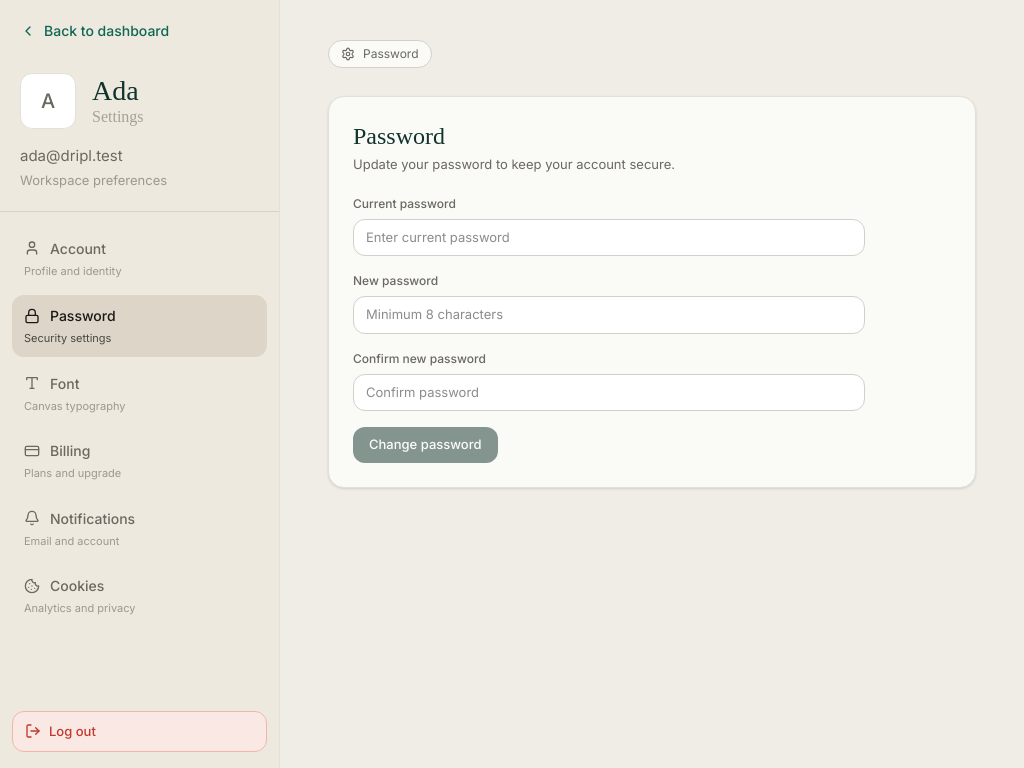
Scenario: /settings — password › clears the fields and reports success once the change is accepted
The image size is (1024, 768).
Type "hunter2" into the password field with placeholder "Enter current password" at (609, 237), box [353, 218, 865, 256]
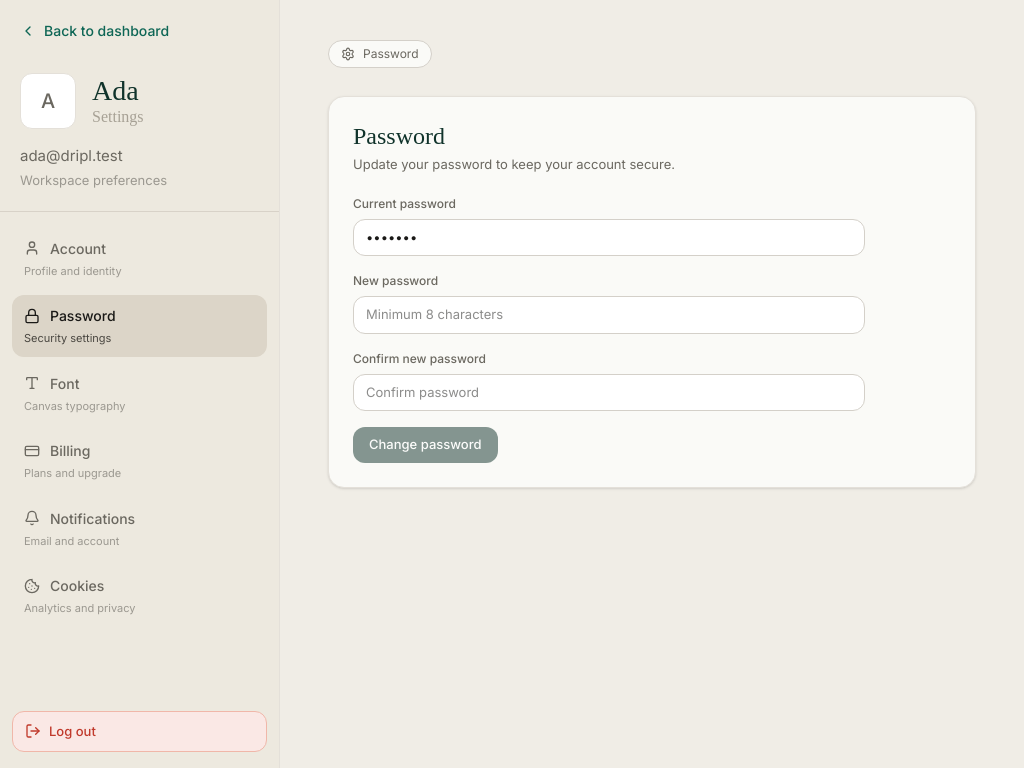
Type "longenough1" into the password field with placeholder "Minimum 8 characters" at (609, 315), box [353, 296, 865, 334]
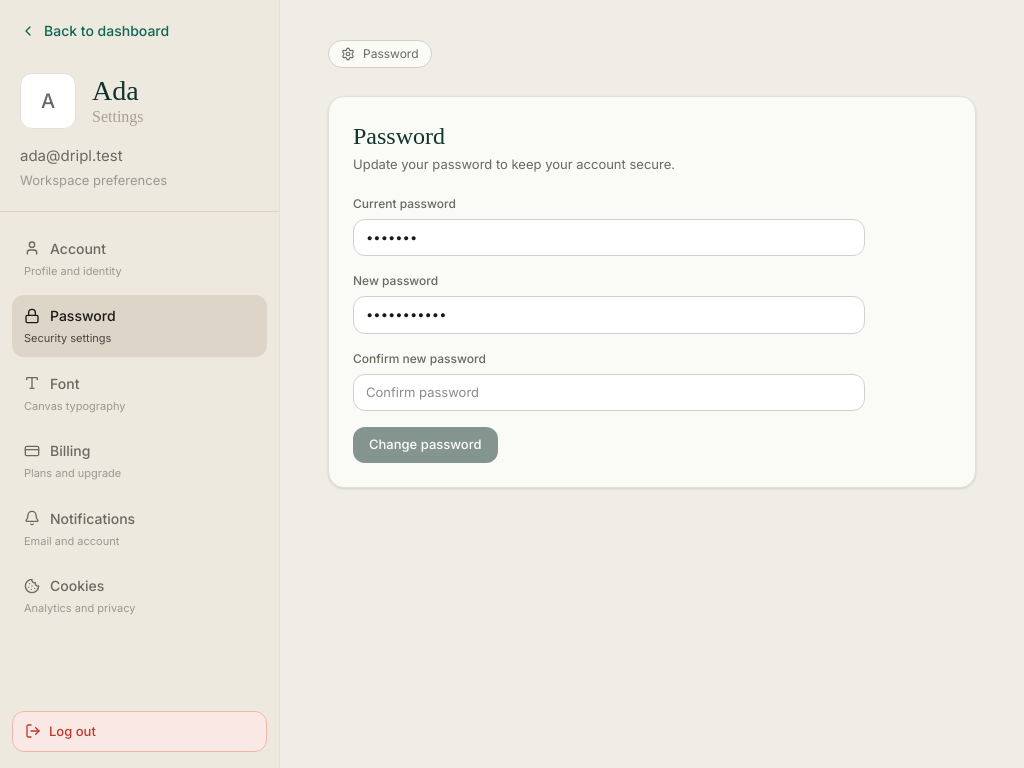
Type "longenough1" into the password field with placeholder "Confirm password" at (609, 392), box [353, 374, 865, 411]
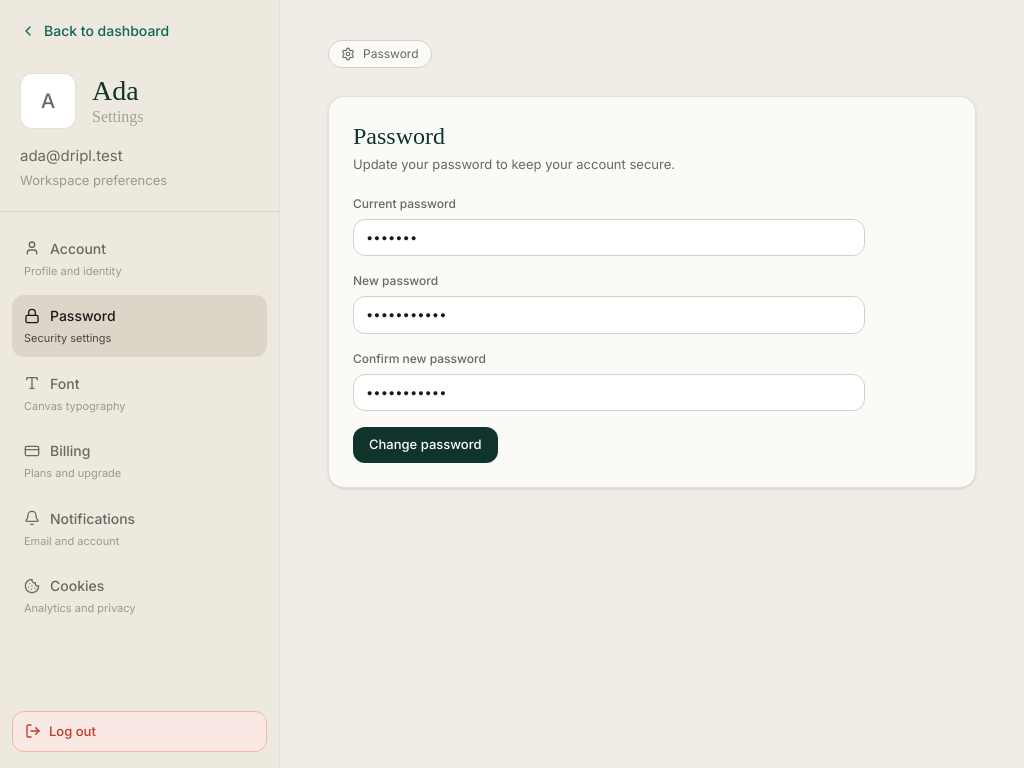
Click the button "Change password" at (425, 445), box [353, 427, 498, 462]
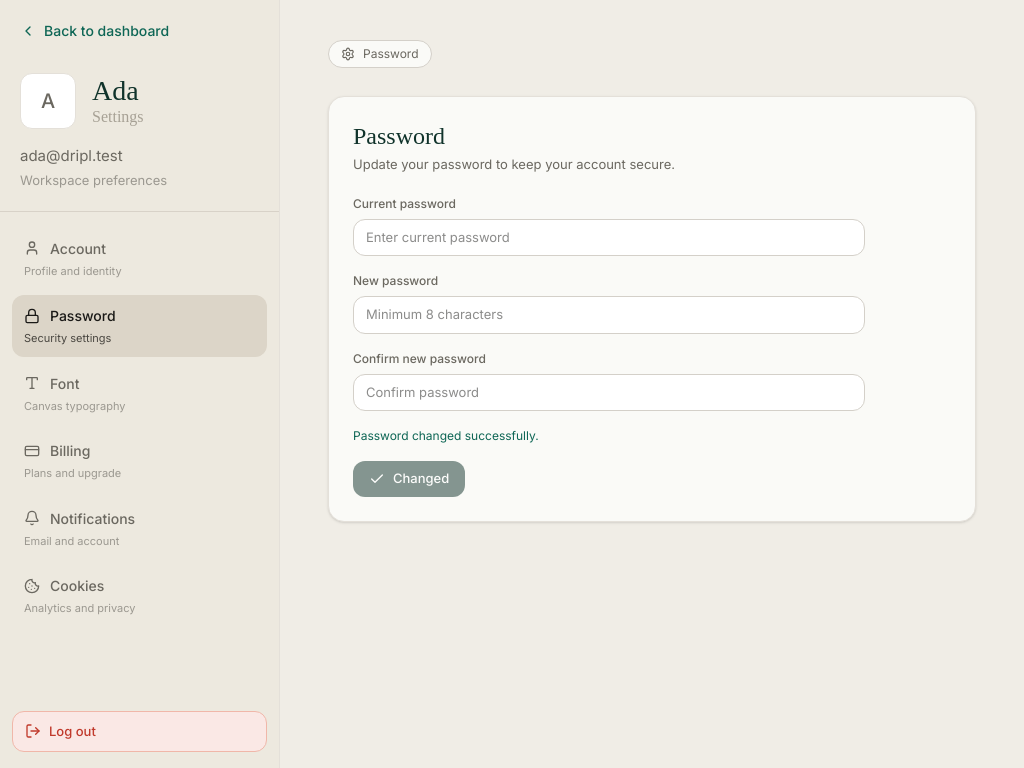
Expected: the text "Password changed successfully." is shown, [353, 428, 539, 443]
Expected: the password field with placeholder "Enter current password" is empty, [353, 218, 865, 256]
Expected: the password field with placeholder "Minimum 8 characters" is empty, [353, 296, 865, 334]
